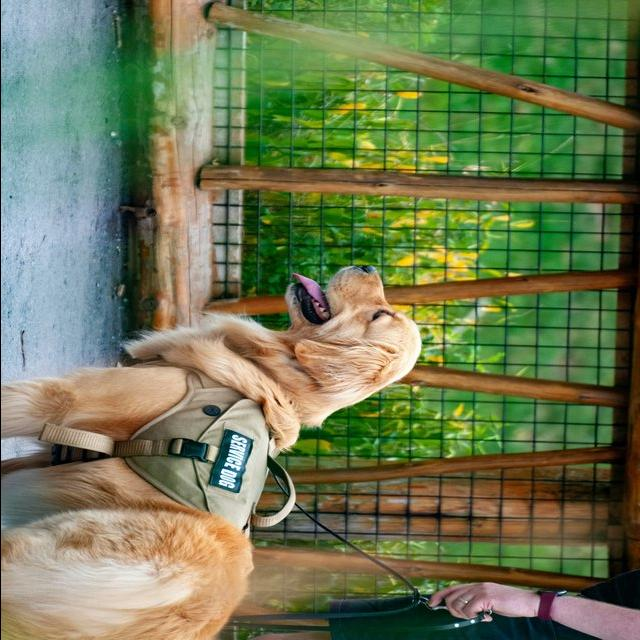retriever: (2, 263, 423, 639)
